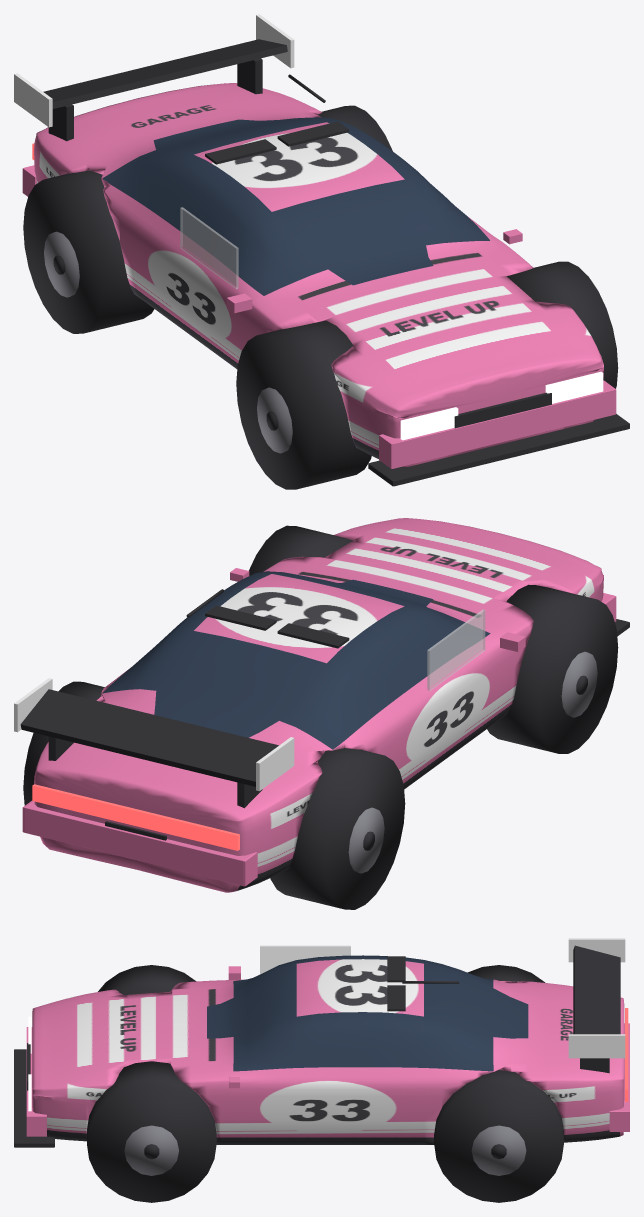
Rendered from car_10.glb.
3 renders of one model, top to bottom at view 1: azimuth 30°, elevation 25°; view 2: azimuth 150°, elevation 25°; view 3: azimuth 270°, elevation 25°, orthographic. The views are drawn at different scales.
Visible parts, largest first — view 1: body, cutter, cutter.002, bumperF, spoiler, cutter.001, splitter, net, dish, dish.002, grille, endplate (+8 smaller); view 2: body, cutter, cutter.002, spoiler, bumperR, tail, net, cutter.001, dish, dish.002, cutter.003, endplate (+3 smaller); view 3: body, cutter.001, cutter.003, spoiler, dish.003, dish.001, cutter, splitter, net, endplate.001, endplate, cutter.002 (+5 smaller).
Boxes of the visible parts, bbox=[...] form: body: bbox=[34, 83, 603, 466]; cutter: bbox=[236, 320, 371, 489]; cutter.002: bbox=[23, 170, 154, 333]; bumperF: bbox=[379, 380, 616, 468]; spoiler: bbox=[43, 39, 287, 108]; cutter.001: bbox=[507, 261, 618, 388]; splitter: bbox=[368, 414, 629, 486]; net: bbox=[180, 207, 238, 288]; dish: bbox=[257, 387, 292, 453]; dish.002: bbox=[44, 231, 79, 297]; grille: bbox=[454, 392, 551, 428]; endplate: bbox=[14, 73, 52, 127]; body: bbox=[34, 518, 603, 892]; cutter: bbox=[487, 584, 618, 753]; cutter.002: bbox=[270, 748, 405, 909]; spoiler: bbox=[20, 689, 278, 786]; bumperR: bbox=[22, 801, 257, 886]; tail: bbox=[32, 784, 239, 850]; net: bbox=[427, 609, 485, 691]; cutter.001: bbox=[249, 525, 352, 575]; dish: bbox=[561, 651, 597, 717]; dish.002: bbox=[348, 807, 384, 873]; cutter.003: bbox=[23, 681, 104, 805]; endplate: bbox=[256, 737, 294, 791]; body: bbox=[32, 955, 624, 1144]; cutter.001: bbox=[87, 1061, 216, 1202]; cutter.003: bbox=[434, 1070, 563, 1202]; spoiler: bbox=[573, 945, 620, 1034]; dish.003: bbox=[471, 1125, 526, 1175]; dish.001: bbox=[124, 1125, 178, 1175]; cutter: bbox=[98, 965, 196, 995]; splitter: bbox=[14, 1049, 54, 1147]; net: bbox=[260, 945, 350, 974]; endplate.001: bbox=[568, 1034, 625, 1058]; endplate: bbox=[568, 938, 625, 962]; cutter.002: bbox=[468, 965, 545, 982].
Size of the model in its own units: 2.58 by 1.76 by 5.41.
Materials: 11 (1 with a texture image).
